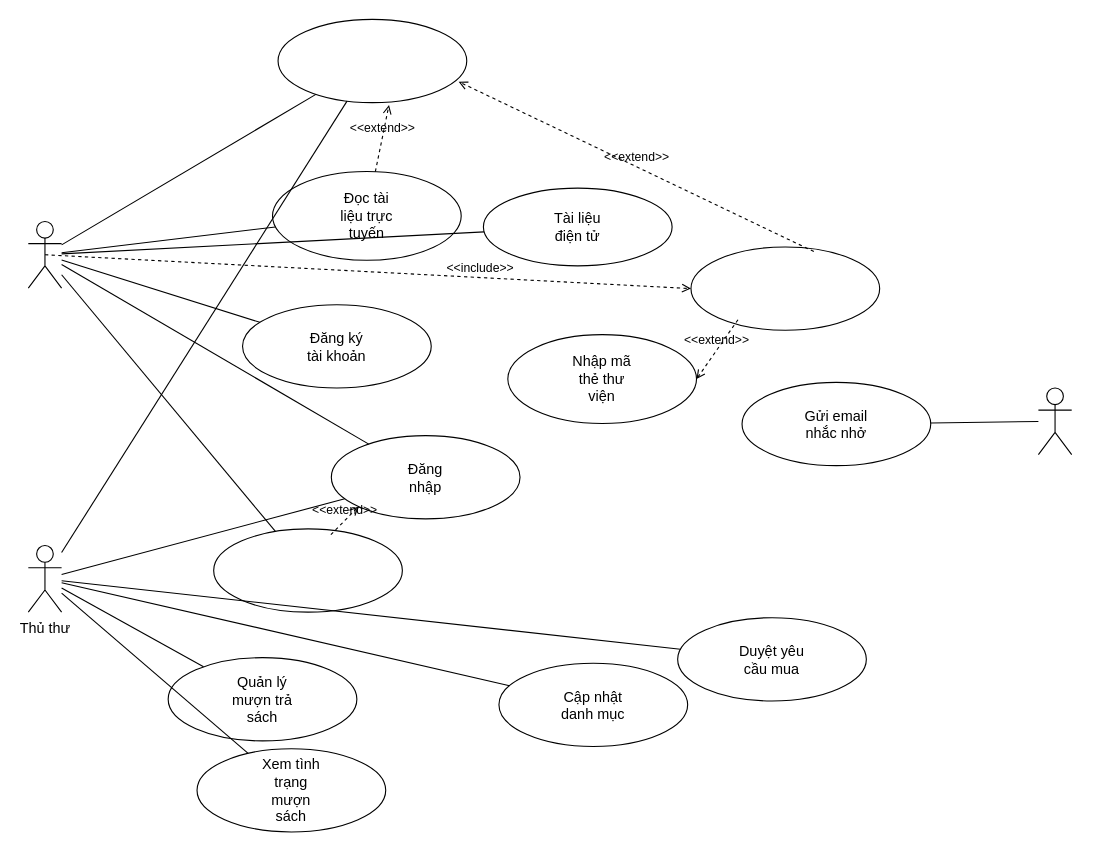
This 1103x851 diagram has some shape labels left out. Each missing label, with the centre of its shape:
"Hệ thống" goes at pixel 1054 421.
"Tìm kiếm tài liệu" goes at pixel 372 60.
"Đăng ký mượn sách" goes at pixel 785 288.
"Đặt mua tài liệu" goes at pixel 307 570.
"Độc giả" goes at pixel 44 254.
